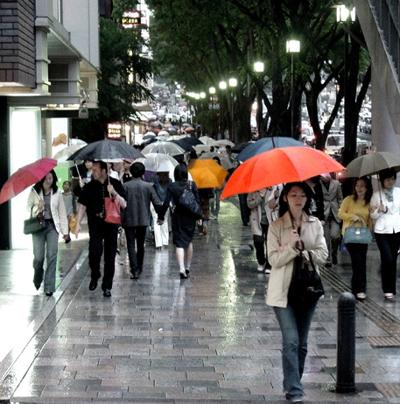person: (267, 183, 330, 404)
